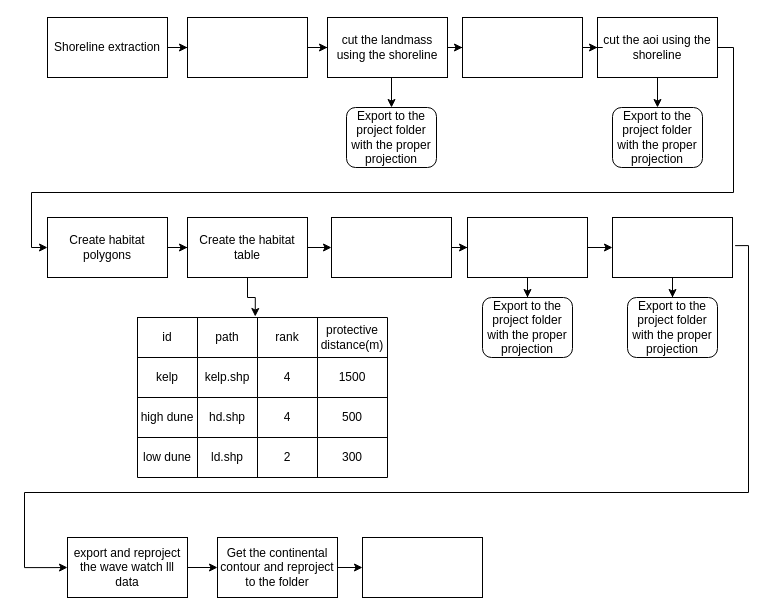
The diagram is 774 pixels wide and 615 high, and some of its shapes have lost their labels. Each missing label, with the box of its shape:
Create the AOI polygon: (462, 16, 582, 78)
Export that in the project habitat folder with proper projection: (330, 216, 452, 278)
Get bathymatry data from the gebco: (466, 216, 588, 278)
Get the DEM from the usgs: (612, 216, 732, 278)
landmass from the gadm: (186, 16, 308, 78)
Run the model: (362, 536, 482, 598)
